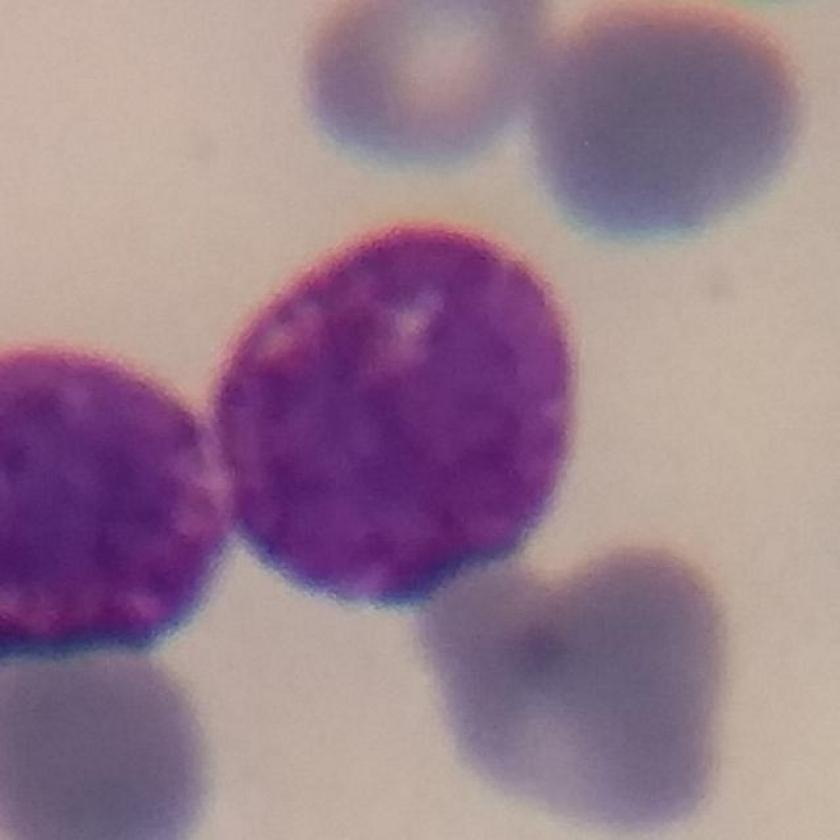basophil: (212, 227, 630, 623), (4, 324, 236, 666)
